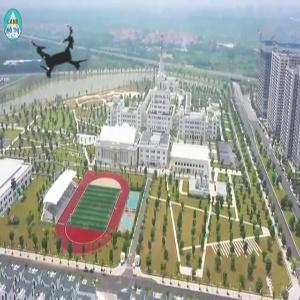drone: (9, 6, 108, 105)
